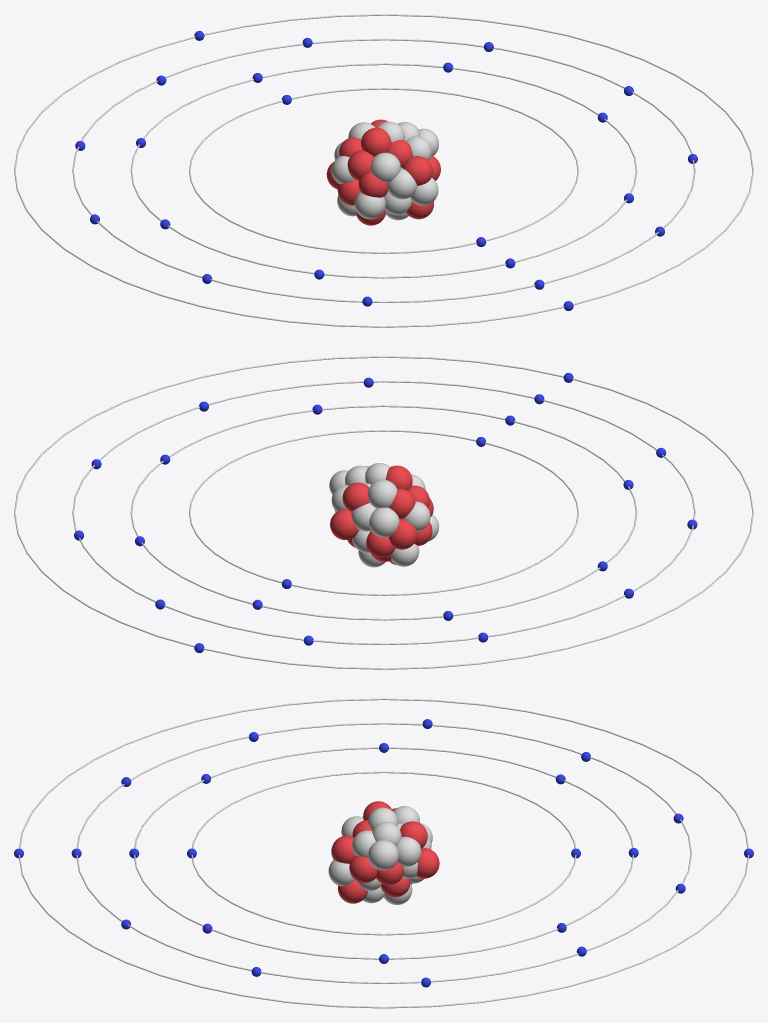
The model's file is Vanadium.glb.
3 renders of one model, top to bottom at view 1: azimuth 30°, elevation 25°; view 2: azimuth 150°, elevation 25°; view 3: azimuth 270°, elevation 25°, orthographic.
Visible parts, largest first — view 1: N-Schale, M-Schale, L-Schale, K-Schale, Neutron 15, Proton 16, Neutron 14, Neutron 24, Proton 23, Proton 19, Proton 10; view 2: N-Schale, M-Schale, L-Schale, K-Schale, Neutron 8, Neutron 16, Proton 18, Proton 17, Proton 4, Proton 8, Proton 12; view 3: N-Schale, M-Schale, L-Schale, K-Schale, Neutron 28, Neutron 22, Proton 22, Proton 18, Proton 23.
Part boxes in pixels (x1=…): N-Schale: x1=14, y1=14, x2=753, y2=327; M-Schale: x1=72, y1=38, x2=695, y2=303; L-Schale: x1=130, y1=63, x2=637, y2=278; K-Schale: x1=189, y1=88, x2=578, y2=253; Neutron 15: x1=370, y1=152, x2=400, y2=182; Proton 16: x1=361, y1=127, x2=391, y2=156; Neutron 14: x1=354, y1=192, x2=385, y2=219; Neutron 24: x1=388, y1=168, x2=416, y2=199; Proton 23: x1=402, y1=156, x2=432, y2=185; Proton 19: x1=347, y1=150, x2=374, y2=180; Proton 10: x1=358, y1=172, x2=387, y2=197; N-Schale: x1=14, y1=356, x2=753, y2=669; M-Schale: x1=72, y1=380, x2=695, y2=645; L-Schale: x1=130, y1=405, x2=637, y2=620; K-Schale: x1=189, y1=430, x2=578, y2=595; Neutron 8: x1=369, y1=507, x2=399, y2=537; Neutron 16: x1=368, y1=479, x2=397, y2=508; Proton 18: x1=330, y1=509, x2=358, y2=539; Proton 17: x1=342, y1=482, x2=369, y2=511; Proton 4: x1=388, y1=519, x2=417, y2=549; Proton 8: x1=389, y1=488, x2=415, y2=519; Proton 12: x1=366, y1=531, x2=395, y2=557; N-Schale: x1=18, y1=698, x2=749, y2=1008; M-Schale: x1=76, y1=723, x2=691, y2=983; L-Schale: x1=134, y1=747, x2=633, y2=959; K-Schale: x1=191, y1=771, x2=576, y2=935; Neutron 28: x1=368, y1=840, x2=398, y2=870; Neutron 22: x1=396, y1=836, x2=421, y2=866; Proton 22: x1=349, y1=855, x2=377, y2=882; Proton 18: x1=416, y1=848, x2=439, y2=878; Proton 23: x1=331, y1=835, x2=355, y2=863.
Size of the model in its own units: 19.04 by 2.73 by 19.26.
